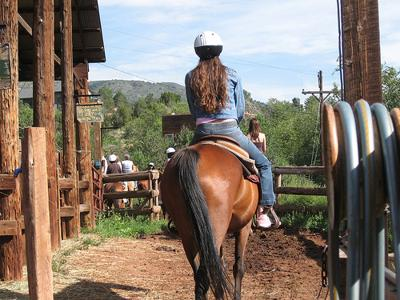person: (185, 30, 278, 233)
